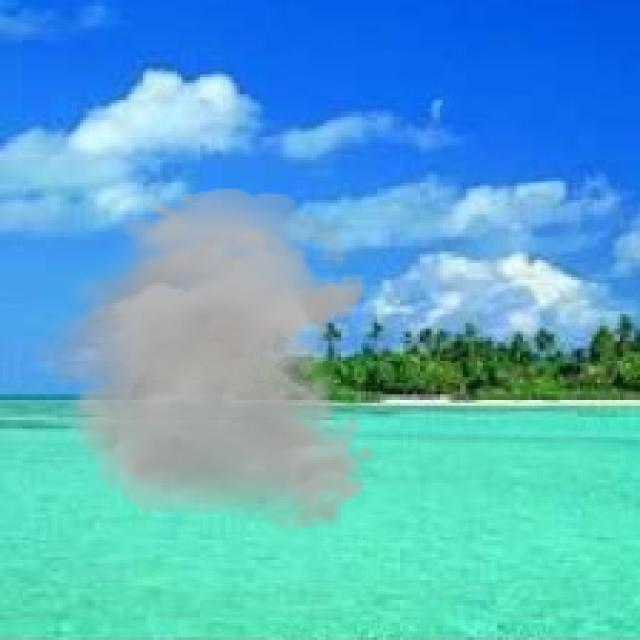smoke: (23, 188, 377, 532)
